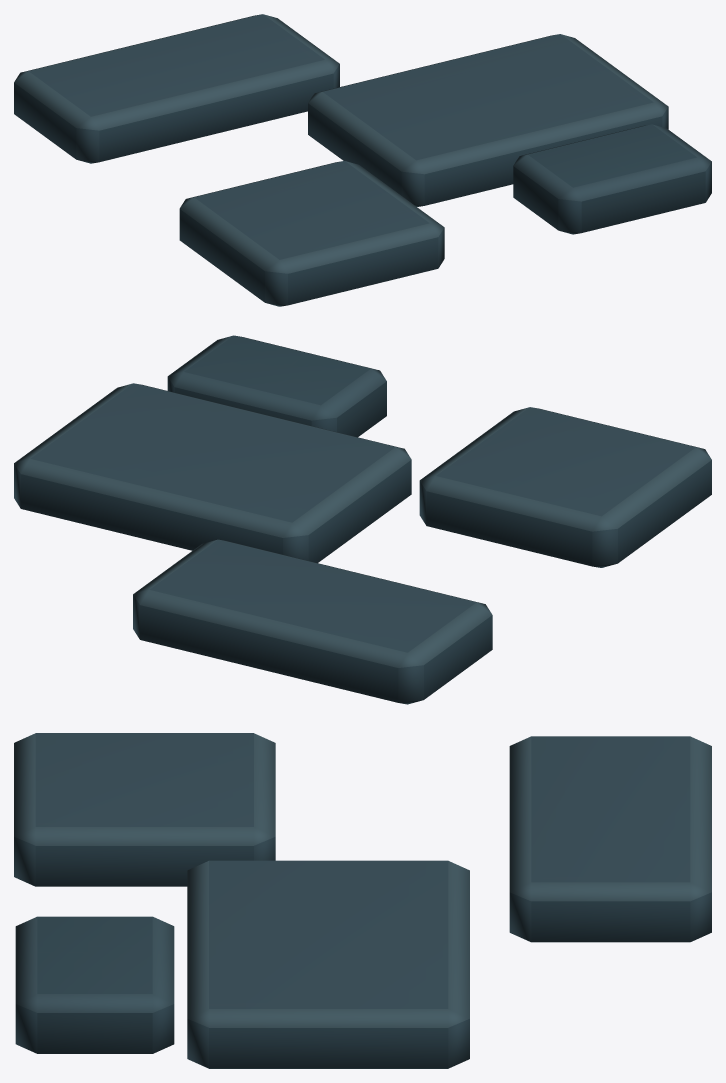
Rendered from stone_path_6.fbx.
The picture shows the model from 3 angles, top to bottom: view 1: azimuth 30°, elevation 25°; view 2: azimuth 150°, elevation 25°; view 3: azimuth 270°, elevation 25°; orthographic projection. The views are drawn at different scales.
Parts seen in each view (by area): view 1: stone_path_6; view 2: stone_path_6; view 3: stone_path_6.
Boxes of the visible parts, x1,y1,x2,y2 form: stone_path_6: (14, 14, 711, 306); stone_path_6: (14, 335, 711, 704); stone_path_6: (14, 733, 711, 1068).
Bounding box in the file's own units: 192 × 18.28 × 193.
